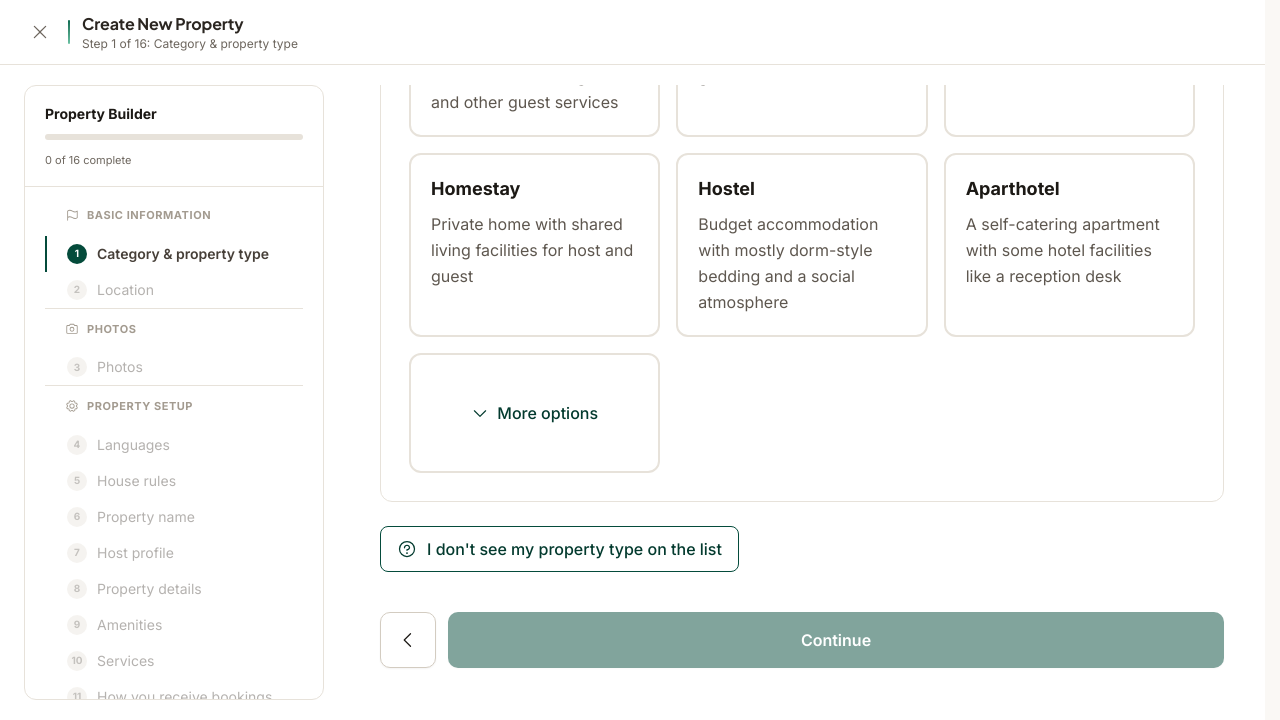
PropertyHotelCategoryPage — the full category list › opens and closes the reassurance dialog
(page scrolled)
Click the button "I don't see my property type on the list".
click(559, 549)  # box top-left (380, 526), bottom-right (739, 572)
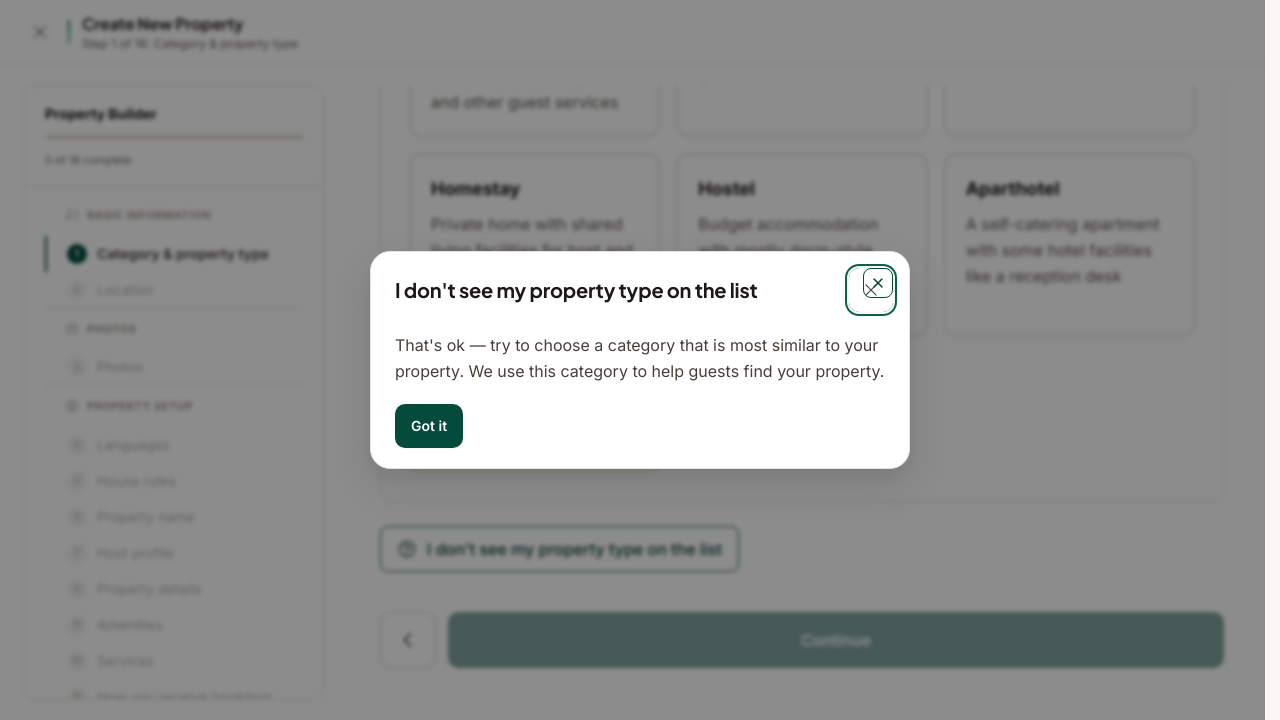
Result: the text "try to choose a category that is most similar to your property" is shown at top-left (395, 335), bottom-right (884, 381)
Click the button "Got it".
click(429, 426)  # box top-left (395, 404), bottom-right (463, 448)
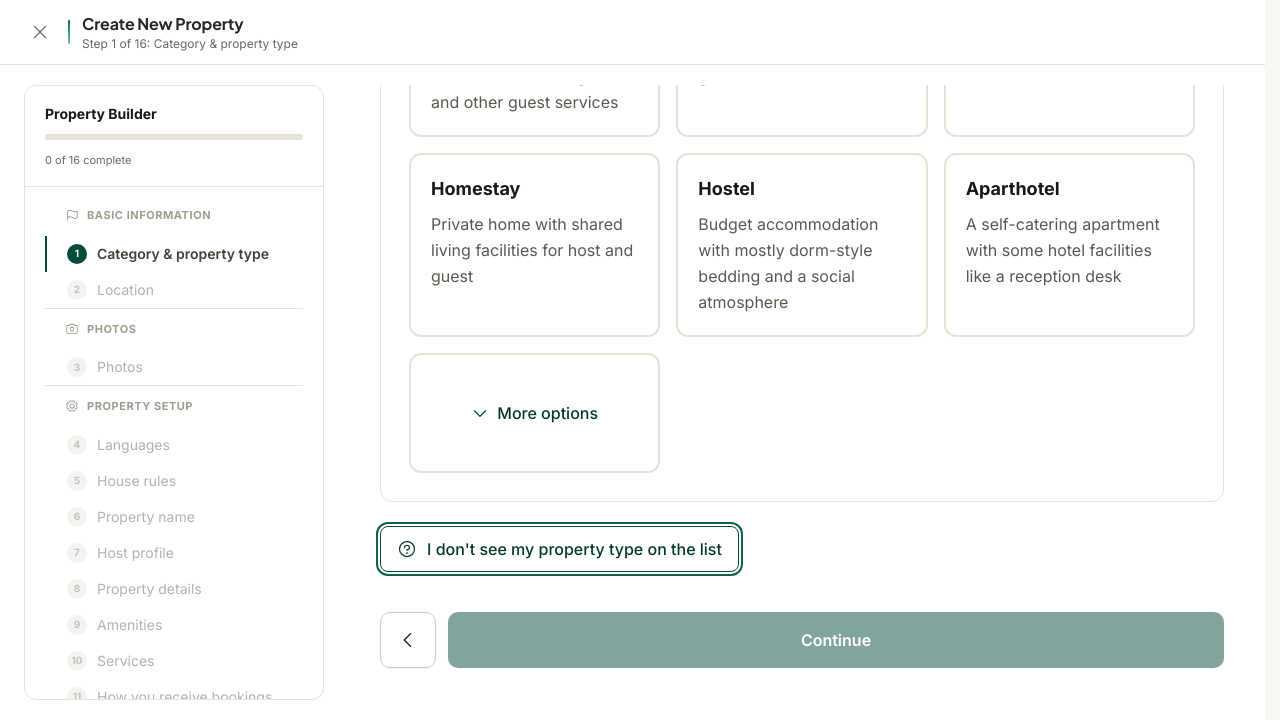
Result: the text "try to choose a category that is most similar to your property" is gone
